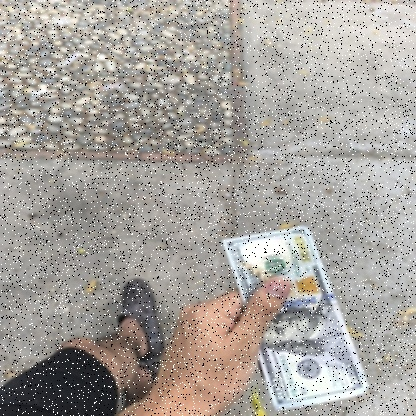one_hundred-front: (218, 224, 369, 410)
